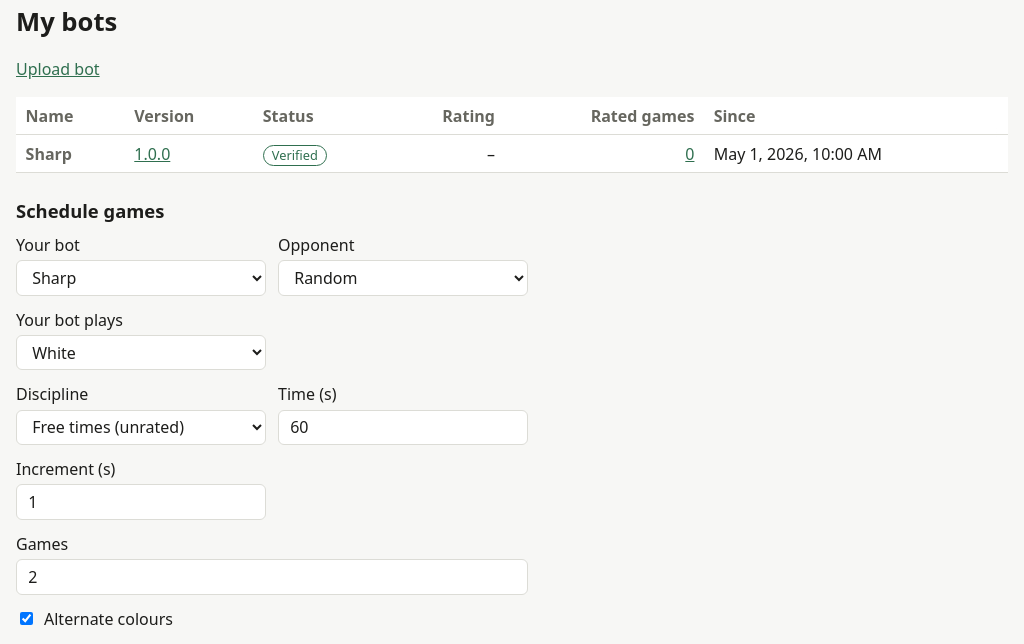
random bots › lets coders draw the opponent
Select "Random" in the dropdown labelled "Opponent" at (403, 278), box [278, 260, 528, 296]
(page scrolled)
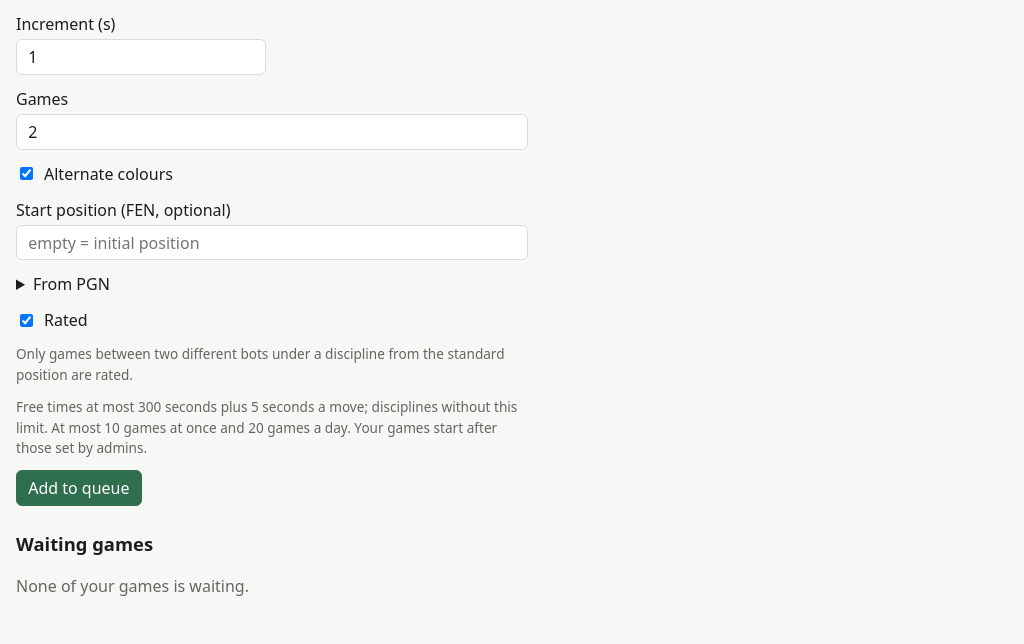
Click the button "Add to queue" at (79, 488), box [16, 470, 142, 506]
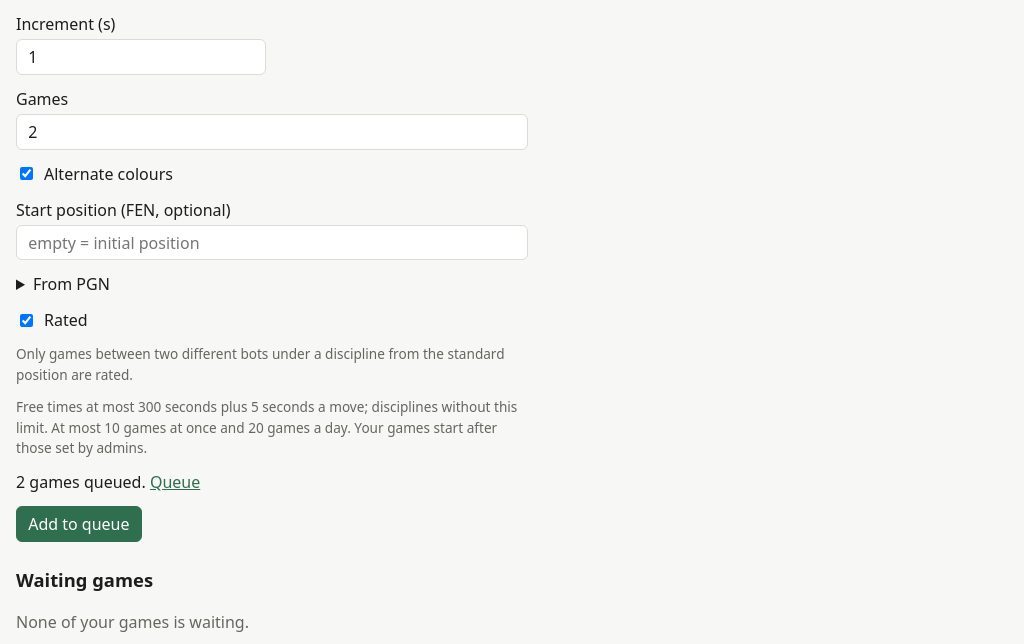
Result: the message shows "2 games queued." at [16, 471, 146, 493]
